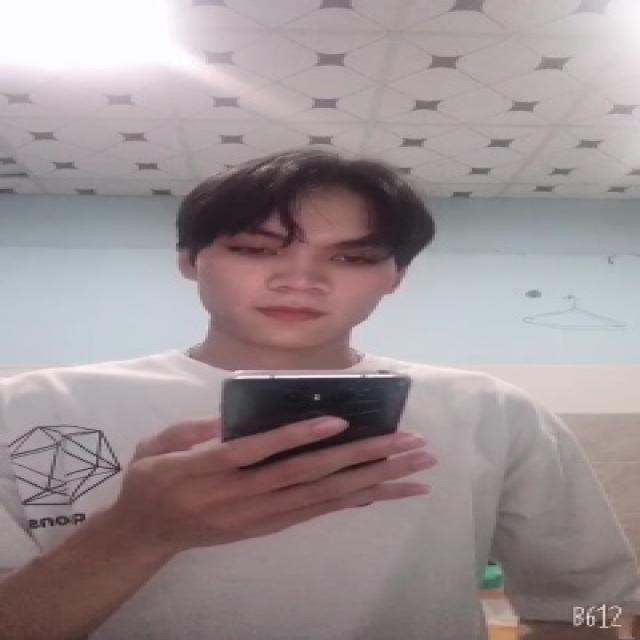Phone: (212, 365, 416, 465)
